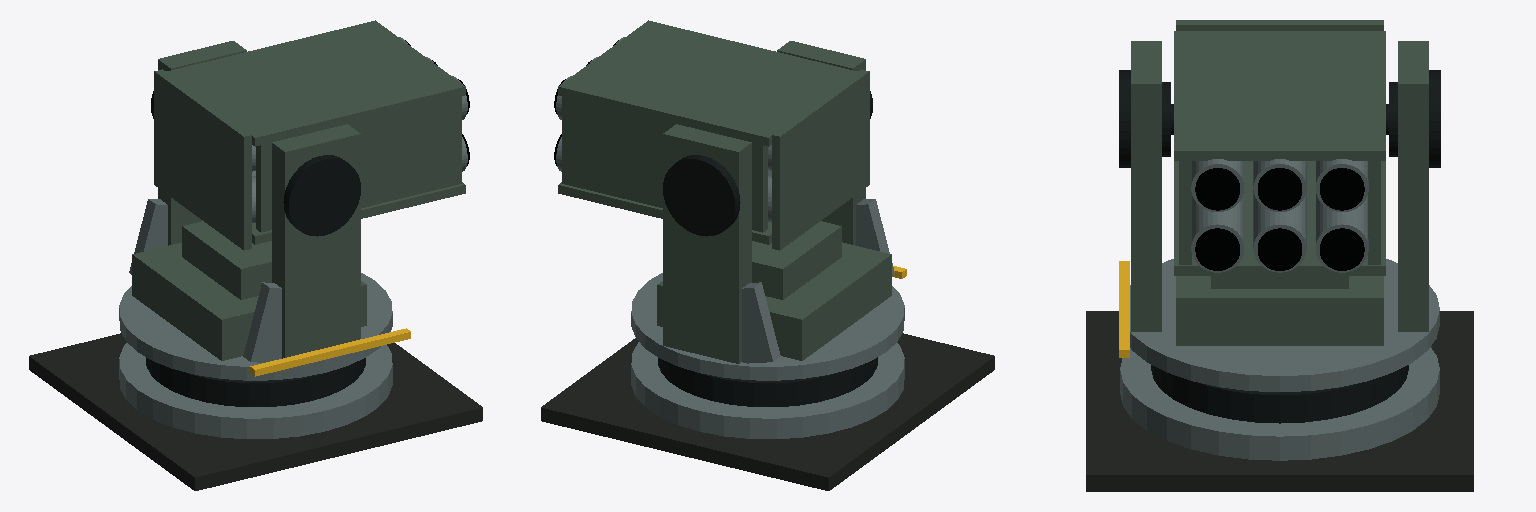
The robot description file, URDF, robot "naval_canister_launcher":
<robot name="naval_canister_launcher">
  <link name="base">
    <visual name="deck_plate">
      <origin xyz="0 0 0.04" rpy="0 0 0" />
      <geometry>
        <box size="1.75 1.75 0.08" />
        </geometry>
      <material name="deck_dark">
        <color rgba="0.18 0.19 0.18 1" />
        </material>
      </visual>
    <visual name="foundation_plinth">
      <origin xyz="0 0 0.14" rpy="0 0 0" />
      <geometry>
        <cylinder radius="0.72" length="0.12" />
        </geometry>
      <material name="naval_grey">
        <color rgba="0.42 0.47 0.47 1" />
        </material>
      </visual>
    <visual name="fixed_lower_ring">
      <origin xyz="0 0 0.26" rpy="0 0 0" />
      <geometry>
        <cylinder radius="0.58" length="0.16" />
        </geometry>
      <material name="dark_grey">
        <color rgba="0.12 0.14 0.14 1" />
        </material>
      </visual>
    <visual name="bearing_race">
      <origin xyz="0 0 0.32" rpy="0 0 0" />
      <geometry>
        <cylinder radius="0.43" length="0.04" />
        </geometry>
      <material name="naval_grey">
        <color rgba="0.42 0.47 0.47 1" />
        </material>
      </visual>
    <collision name="deck_plate">
      <origin xyz="0 0 0.04" rpy="0 0 0" />
      <geometry>
        <box size="1.75 1.75 0.08" />
        </geometry>
      </collision>
    <collision name="foundation_plinth">
      <origin xyz="0 0 0.14" rpy="0 0 0" />
      <geometry>
        <cylinder radius="0.72" length="0.12" />
        </geometry>
      </collision>
    <collision name="fixed_lower_ring">
      <origin xyz="0 0 0.26" rpy="0 0 0" />
      <geometry>
        <cylinder radius="0.58" length="0.16" />
        </geometry>
      </collision>
    <collision name="bearing_race">
      <origin xyz="0 0 0.32" rpy="0 0 0" />
      <geometry>
        <cylinder radius="0.43" length="0.04" />
        </geometry>
      </collision>
    </link>
  <link name="turntable">
    <visual name="rotating_bearing">
      <origin xyz="0 0 0.04" rpy="0 0 0" />
      <geometry>
        <cylinder radius="0.54" length="0.08" />
        </geometry>
      <material name="dark_grey">
        <color rgba="0.12 0.14 0.14 1" />
        </material>
      </visual>
    <visual name="armored_turntable">
      <origin xyz="0 0 0.12" rpy="0 0 0" />
      <geometry>
        <cylinder radius="0.72" length="0.08" />
        </geometry>
      <material name="naval_grey">
        <color rgba="0.42 0.47 0.47 1" />
        </material>
      </visual>
    <visual name="armored_pedestal">
      <origin xyz="-0.04 0 0.28" rpy="0 0 0" />
      <geometry>
        <box size="0.88 0.94 0.24" />
        </geometry>
      <material name="armor_green">
        <color rgba="0.32 0.39 0.34 1" />
        </material>
      </visual>
    <visual name="fork_saddle">
      <origin xyz="0.02 0 0.49" rpy="0 0 0" />
      <geometry>
        <box size="0.58 0.62 0.18" />
        </geometry>
      <material name="armor_green">
        <color rgba="0.32 0.39 0.34 1" />
        </material>
      </visual>
    <visual name="cheek_0">
      <origin xyz="0.02 -0.6 0.77" rpy="0 0 0" />
      <geometry>
        <box size="0.46 0.14 1.24" />
        </geometry>
      <material name="armor_green">
        <color rgba="0.32 0.39 0.34 1" />
        </material>
      </visual>
    <visual name="rear_gusset_0">
      <origin xyz="-0.18 -0.6 0.36" rpy="0 0.279253 0" />
      <geometry>
        <box size="0.34 0.08 0.42" />
        </geometry>
      <material name="naval_grey">
        <color rgba="0.42 0.47 0.47 1" />
        </material>
      </visual>
    <visual name="outer_bearing_0">
      <origin xyz="0 -0.6975 1.1" rpy="1.5708 0 0" />
      <geometry>
        <cylinder radius="0.22" length="0.055" />
        </geometry>
      <material name="dark_grey">
        <color rgba="0.12 0.14 0.14 1" />
        </material>
      </visual>
    <visual name="cheek_1">
      <origin xyz="0.02 0.6 0.77" rpy="0 0 0" />
      <geometry>
        <box size="0.46 0.14 1.24" />
        </geometry>
      <material name="armor_green">
        <color rgba="0.32 0.39 0.34 1" />
        </material>
      </visual>
    <visual name="rear_gusset_1">
      <origin xyz="-0.18 0.6 0.36" rpy="0 0.279253 0" />
      <geometry>
        <box size="0.34 0.08 0.42" />
        </geometry>
      <material name="naval_grey">
        <color rgba="0.42 0.47 0.47 1" />
        </material>
      </visual>
    <visual name="outer_bearing_1">
      <origin xyz="0 0.6975 1.1" rpy="1.5708 0 0" />
      <geometry>
        <cylinder radius="0.22" length="0.055" />
        </geometry>
      <material name="dark_grey">
        <color rgba="0.12 0.14 0.14 1" />
        </material>
      </visual>
    <visual name="azimuth_mark">
      <origin xyz="0.05 -0.7 0.18" rpy="0 0 0" />
      <geometry>
        <box size="0.95 0.05 0.04" />
        </geometry>
      <material name="warning_yellow">
        <color rgba="0.92 0.72 0.18 1" />
        </material>
      </visual>
    <collision name="rotating_bearing">
      <origin xyz="0 0 0.04" rpy="0 0 0" />
      <geometry>
        <cylinder radius="0.54" length="0.08" />
        </geometry>
      </collision>
    <collision name="armored_turntable">
      <origin xyz="0 0 0.12" rpy="0 0 0" />
      <geometry>
        <cylinder radius="0.72" length="0.08" />
        </geometry>
      </collision>
    <collision name="armored_pedestal">
      <origin xyz="-0.04 0 0.28" rpy="0 0 0" />
      <geometry>
        <box size="0.88 0.94 0.24" />
        </geometry>
      </collision>
    <collision name="fork_saddle">
      <origin xyz="0.02 0 0.49" rpy="0 0 0" />
      <geometry>
        <box size="0.58 0.62 0.18" />
        </geometry>
      </collision>
    <collision name="cheek_0">
      <origin xyz="0.02 -0.6 0.77" rpy="0 0 0" />
      <geometry>
        <box size="0.46 0.14 1.24" />
        </geometry>
      </collision>
    <collision name="rear_gusset_0">
      <origin xyz="-0.18 -0.6 0.36" rpy="0 0.279253 0" />
      <geometry>
        <box size="0.34 0.08 0.42" />
        </geometry>
      </collision>
    <collision name="outer_bearing_0">
      <origin xyz="0 -0.6975 1.1" rpy="1.5708 0 0" />
      <geometry>
        <cylinder radius="0.22" length="0.055" />
        </geometry>
      </collision>
    <collision name="cheek_1">
      <origin xyz="0.02 0.6 0.77" rpy="0 0 0" />
      <geometry>
        <box size="0.46 0.14 1.24" />
        </geometry>
      </collision>
    <collision name="rear_gusset_1">
      <origin xyz="-0.18 0.6 0.36" rpy="0 0.279253 0" />
      <geometry>
        <box size="0.34 0.08 0.42" />
        </geometry>
      </collision>
    <collision name="outer_bearing_1">
      <origin xyz="0 0.6975 1.1" rpy="1.5708 0 0" />
      <geometry>
        <cylinder radius="0.22" length="0.055" />
        </geometry>
      </collision>
    <collision name="azimuth_mark">
      <origin xyz="0.05 -0.7 0.18" rpy="0 0 0" />
      <geometry>
        <box size="0.95 0.05 0.04" />
        </geometry>
      </collision>
    </link>
  <link name="canister_pack">
    <visual name="tube_0_0">
      <origin xyz="0.38 -0.28 -0.15" rpy="0 1.5708 0" />
      <geometry>
        <cylinder radius="0.12" length="1.35" />
        </geometry>
      <material name="naval_grey">
        <color rgba="0.42 0.47 0.47 1" />
        </material>
      </visual>
    <visual name="front_cap_0_0">
      <origin xyz="1.065 -0.28 -0.15" rpy="0 1.5708 0" />
      <geometry>
        <cylinder radius="0.101" length="0.025" />
        </geometry>
      <material name="rubber_black">
        <color rgba="0.02 0.025 0.025 1" />
        </material>
      </visual>
    <visual name="tube_0_1">
      <origin xyz="0.38 0 -0.15" rpy="0 1.5708 0" />
      <geometry>
        <cylinder radius="0.12" length="1.35" />
        </geometry>
      <material name="naval_grey">
        <color rgba="0.42 0.47 0.47 1" />
        </material>
      </visual>
    <visual name="front_cap_0_1">
      <origin xyz="1.065 0 -0.15" rpy="0 1.5708 0" />
      <geometry>
        <cylinder radius="0.101" length="0.025" />
        </geometry>
      <material name="rubber_black">
        <color rgba="0.02 0.025 0.025 1" />
        </material>
      </visual>
    <visual name="tube_0_2">
      <origin xyz="0.38 0.28 -0.15" rpy="0 1.5708 0" />
      <geometry>
        <cylinder radius="0.12" length="1.35" />
        </geometry>
      <material name="naval_grey">
        <color rgba="0.42 0.47 0.47 1" />
        </material>
      </visual>
    <visual name="front_cap_0_2">
      <origin xyz="1.065 0.28 -0.15" rpy="0 1.5708 0" />
      <geometry>
        <cylinder radius="0.101" length="0.025" />
        </geometry>
      <material name="rubber_black">
        <color rgba="0.02 0.025 0.025 1" />
        </material>
      </visual>
    <visual name="tube_1_0">
      <origin xyz="0.38 -0.28 0.15" rpy="0 1.5708 0" />
      <geometry>
        <cylinder radius="0.12" length="1.35" />
        </geometry>
      <material name="naval_grey">
        <color rgba="0.42 0.47 0.47 1" />
        </material>
      </visual>
    <visual name="front_cap_1_0">
      <origin xyz="1.065 -0.28 0.15" rpy="0 1.5708 0" />
      <geometry>
        <cylinder radius="0.101" length="0.025" />
        </geometry>
      <material name="rubber_black">
        <color rgba="0.02 0.025 0.025 1" />
        </material>
      </visual>
    <visual name="tube_1_1">
      <origin xyz="0.38 0 0.15" rpy="0 1.5708 0" />
      <geometry>
        <cylinder radius="0.12" length="1.35" />
        </geometry>
      <material name="naval_grey">
        <color rgba="0.42 0.47 0.47 1" />
        </material>
      </visual>
    <visual name="front_cap_1_1">
      <origin xyz="1.065 0 0.15" rpy="0 1.5708 0" />
      <geometry>
        <cylinder radius="0.101" length="0.025" />
        </geometry>
      <material name="rubber_black">
        <color rgba="0.02 0.025 0.025 1" />
        </material>
      </visual>
    <visual name="tube_1_2">
      <origin xyz="0.38 0.28 0.15" rpy="0 1.5708 0" />
      <geometry>
        <cylinder radius="0.12" length="1.35" />
        </geometry>
      <material name="naval_grey">
        <color rgba="0.42 0.47 0.47 1" />
        </material>
      </visual>
    <visual name="front_cap_1_2">
      <origin xyz="1.065 0.28 0.15" rpy="0 1.5708 0" />
      <geometry>
        <cylinder radius="0.101" length="0.025" />
        </geometry>
      <material name="rubber_black">
        <color rgba="0.02 0.025 0.025 1" />
        </material>
      </visual>
    <visual name="rear_bulkhead">
      <origin xyz="-0.32 0 0" rpy="0 0 0" />
      <geometry>
        <box size="0.05 0.94 0.66" />
        </geometry>
      <material name="armor_green">
        <color rgba="0.32 0.39 0.34 1" />
        </material>
      </visual>
    <visual name="top_clamp">
      <origin xyz="0.36 0 0.285" rpy="0 0 0" />
      <geometry>
        <box size="1.28 0.95 0.05" />
        </geometry>
      <material name="armor_green">
        <color rgba="0.32 0.39 0.34 1" />
        </material>
      </visual>
    <visual name="bottom_clamp">
      <origin xyz="0.36 0 -0.285" rpy="0 0 0" />
      <geometry>
        <box size="1.28 0.95 0.05" />
        </geometry>
      <material name="armor_green">
        <color rgba="0.32 0.39 0.34 1" />
        </material>
      </visual>
    <visual name="side_rail_0">
      <origin xyz="0.38 -0.425 0" rpy="0 0 0" />
      <geometry>
        <box size="1.22 0.055 0.6" />
        </geometry>
      <material name="armor_green">
        <color rgba="0.32 0.39 0.34 1" />
        </material>
      </visual>
    <visual name="trunnion_cap_0">
      <origin xyz="0 -0.51 0" rpy="1.5708 0 0" />
      <geometry>
        <cylinder radius="0.17" length="0.04" />
        </geometry>
      <material name="dark_grey">
        <color rgba="0.12 0.14 0.14 1" />
        </material>
      </visual>
    <visual name="side_rail_1">
      <origin xyz="0.38 0.425 0" rpy="0 0 0" />
      <geometry>
        <box size="1.22 0.055 0.6" />
        </geometry>
      <material name="armor_green">
        <color rgba="0.32 0.39 0.34 1" />
        </material>
      </visual>
    <visual name="trunnion_cap_1">
      <origin xyz="0 0.51 0" rpy="1.5708 0 0" />
      <geometry>
        <cylinder radius="0.17" length="0.04" />
        </geometry>
      <material name="dark_grey">
        <color rgba="0.12 0.14 0.14 1" />
        </material>
      </visual>
    <visual name="trunnion_shaft">
      <origin xyz="0 0 0" rpy="1.5708 0 0" />
      <geometry>
        <cylinder radius="0.07" length="0.98" />
        </geometry>
      <material name="dark_grey">
        <color rgba="0.12 0.14 0.14 1" />
        </material>
      </visual>
    <collision name="tube_0_0">
      <origin xyz="0.38 -0.28 -0.15" rpy="0 1.5708 0" />
      <geometry>
        <cylinder radius="0.12" length="1.35" />
        </geometry>
      </collision>
    <collision name="front_cap_0_0">
      <origin xyz="1.065 -0.28 -0.15" rpy="0 1.5708 0" />
      <geometry>
        <cylinder radius="0.101" length="0.025" />
        </geometry>
      </collision>
    <collision name="tube_0_1">
      <origin xyz="0.38 0 -0.15" rpy="0 1.5708 0" />
      <geometry>
        <cylinder radius="0.12" length="1.35" />
        </geometry>
      </collision>
    <collision name="front_cap_0_1">
      <origin xyz="1.065 0 -0.15" rpy="0 1.5708 0" />
      <geometry>
        <cylinder radius="0.101" length="0.025" />
        </geometry>
      </collision>
    <collision name="tube_0_2">
      <origin xyz="0.38 0.28 -0.15" rpy="0 1.5708 0" />
      <geometry>
        <cylinder radius="0.12" length="1.35" />
        </geometry>
      </collision>
    <collision name="front_cap_0_2">
      <origin xyz="1.065 0.28 -0.15" rpy="0 1.5708 0" />
      <geometry>
        <cylinder radius="0.101" length="0.025" />
        </geometry>
      </collision>
    <collision name="tube_1_0">
      <origin xyz="0.38 -0.28 0.15" rpy="0 1.5708 0" />
      <geometry>
        <cylinder radius="0.12" length="1.35" />
        </geometry>
      </collision>
    <collision name="front_cap_1_0">
      <origin xyz="1.065 -0.28 0.15" rpy="0 1.5708 0" />
      <geometry>
        <cylinder radius="0.101" length="0.025" />
        </geometry>
      </collision>
    <collision name="tube_1_1">
      <origin xyz="0.38 0 0.15" rpy="0 1.5708 0" />
      <geometry>
        <cylinder radius="0.12" length="1.35" />
        </geometry>
      </collision>
    <collision name="front_cap_1_1">
      <origin xyz="1.065 0 0.15" rpy="0 1.5708 0" />
      <geometry>
        <cylinder radius="0.101" length="0.025" />
        </geometry>
      </collision>
    <collision name="tube_1_2">
      <origin xyz="0.38 0.28 0.15" rpy="0 1.5708 0" />
      <geometry>
        <cylinder radius="0.12" length="1.35" />
        </geometry>
      </collision>
    <collision name="front_cap_1_2">
      <origin xyz="1.065 0.28 0.15" rpy="0 1.5708 0" />
      <geometry>
        <cylinder radius="0.101" length="0.025" />
        </geometry>
      </collision>
    <collision name="rear_bulkhead">
      <origin xyz="-0.32 0 0" rpy="0 0 0" />
      <geometry>
        <box size="0.05 0.94 0.66" />
        </geometry>
      </collision>
    <collision name="top_clamp">
      <origin xyz="0.36 0 0.285" rpy="0 0 0" />
      <geometry>
        <box size="1.28 0.95 0.05" />
        </geometry>
      </collision>
    <collision name="bottom_clamp">
      <origin xyz="0.36 0 -0.285" rpy="0 0 0" />
      <geometry>
        <box size="1.28 0.95 0.05" />
        </geometry>
      </collision>
    <collision name="side_rail_0">
      <origin xyz="0.38 -0.425 0" rpy="0 0 0" />
      <geometry>
        <box size="1.22 0.055 0.6" />
        </geometry>
      </collision>
    <collision name="trunnion_cap_0">
      <origin xyz="0 -0.51 0" rpy="1.5708 0 0" />
      <geometry>
        <cylinder radius="0.17" length="0.04" />
        </geometry>
      </collision>
    <collision name="side_rail_1">
      <origin xyz="0.38 0.425 0" rpy="0 0 0" />
      <geometry>
        <box size="1.22 0.055 0.6" />
        </geometry>
      </collision>
    <collision name="trunnion_cap_1">
      <origin xyz="0 0.51 0" rpy="1.5708 0 0" />
      <geometry>
        <cylinder radius="0.17" length="0.04" />
        </geometry>
      </collision>
    <collision name="trunnion_shaft">
      <origin xyz="0 0 0" rpy="1.5708 0 0" />
      <geometry>
        <cylinder radius="0.07" length="0.98" />
        </geometry>
      </collision>
    </link>
  <joint name="azimuth" type="continuous">
    <origin xyz="0 0 0.34" rpy="0 0 0" />
    <parent link="base" />
    <child link="turntable" />
    <axis xyz="0 0 1" />
    <limit effort="2000" velocity="0.8" />
    </joint>
  <joint name="elevation" type="revolute">
    <origin xyz="0 0 1.1" rpy="0 0 0" />
    <parent link="turntable" />
    <child link="canister_pack" />
    <axis xyz="0 -1 0" />
    <limit effort="1200" velocity="0.6" lower="0" upper="1.1" />
    </joint>
  </robot>

--- Facts derived from the render (not from the file) ---
Views: 3 orthographic renders of the robot side by side, from view 1: azimuth 30°, elevation 25°; view 2: azimuth 150°, elevation 25°; view 3: azimuth 270°, elevation 25°.
Model naval_canister_launcher with 3 links and 2 joints (1 revolute, 1 continuous), rooted at base, posed every joint at zero.
Links seen in each view (by area): view 1: turntable, canister_pack, base; view 2: turntable, canister_pack, base; view 3: canister_pack, turntable, base.
Boxes of the visible links, bbox=[...] form: turntable: bbox=[119, 41, 410, 380]; canister_pack: bbox=[154, 20, 469, 250]; base: bbox=[29, 333, 482, 490]; turntable: bbox=[631, 41, 906, 380]; canister_pack: bbox=[554, 20, 869, 250]; base: bbox=[541, 333, 994, 490]; canister_pack: bbox=[1162, 20, 1397, 275]; turntable: bbox=[1119, 41, 1440, 391]; base: bbox=[1086, 311, 1473, 491].
Bounding box of the posed robot: 1.95 × 1.75 × 1.77 m (x, y, z).
Geometry: primitives only (box / cylinder / sphere), no mesh files.
